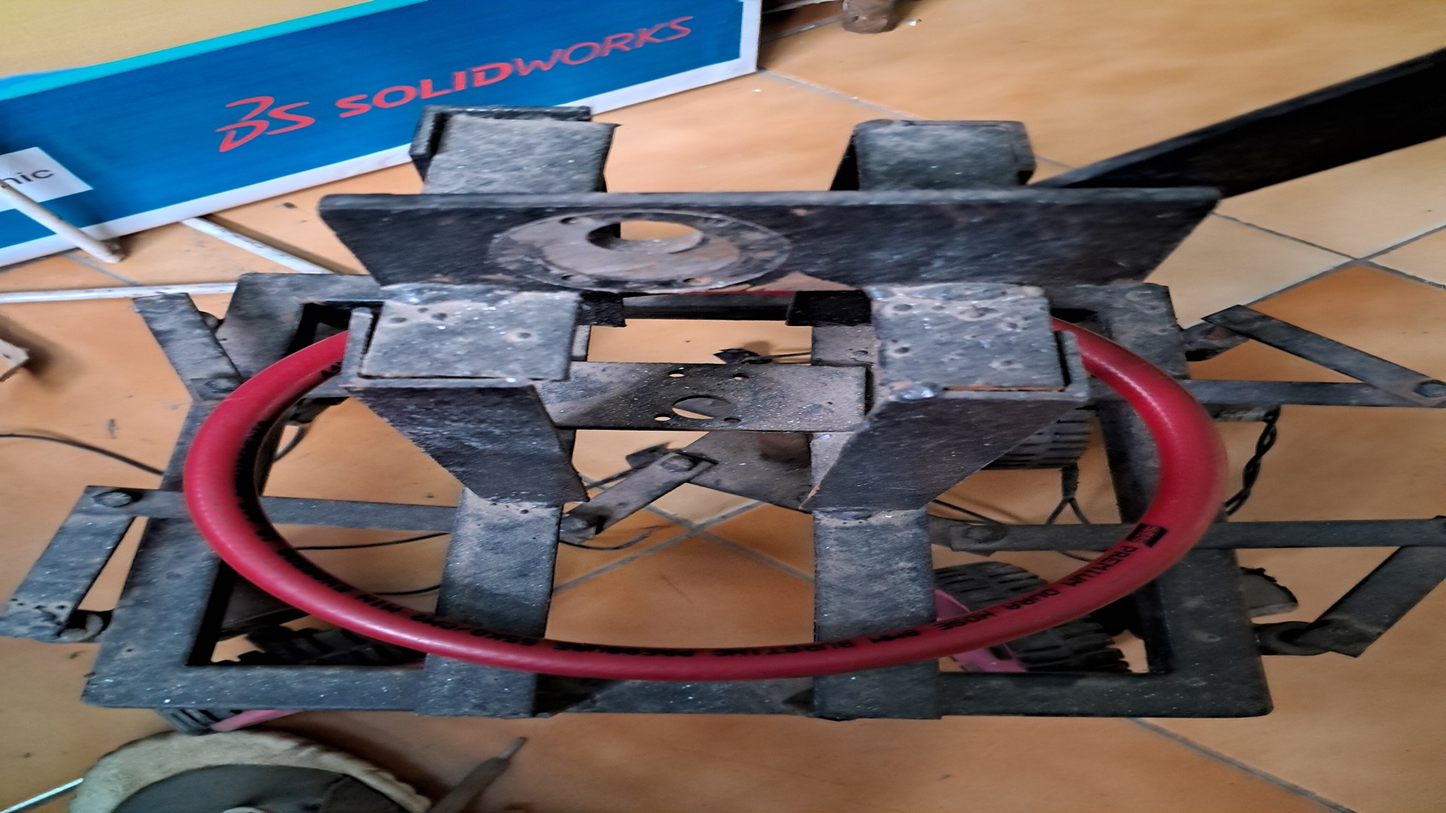Red ring: (182, 370, 1222, 670)
